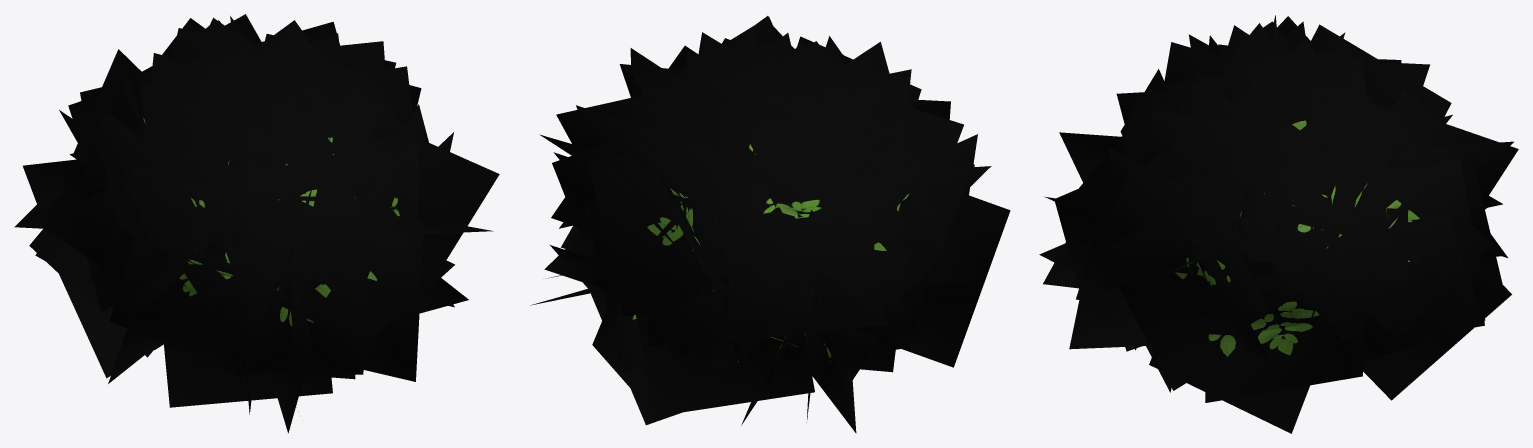
Rendered from Bush_70.001.fbx.
3 renders of one model, left to right at view 1: azimuth 30°, elevation 25°; view 2: azimuth 150°, elevation 25°; view 3: azimuth 270°, elevation 25°, orthographic. The views are drawn at different scales.
Visible parts, largest first — view 1: Bush_70; view 2: Bush_70; view 3: Bush_70.
Part boxes in pixels (x1,y1,x2,y2): Bush_70: (14,14,499,433); Bush_70: (531,16,1010,433); Bush_70: (1039,15,1518,433).
Size of the model in its own units: 231 by 192 by 247.
